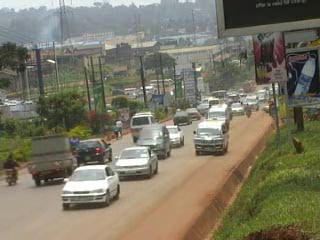Car: (60, 162, 120, 208), (113, 143, 159, 180), (135, 122, 172, 162), (74, 136, 113, 166), (164, 123, 185, 148), (170, 108, 193, 127), (195, 100, 211, 118), (228, 102, 246, 117), (184, 106, 200, 122)
Motorcycle: (3, 152, 23, 187), (244, 102, 252, 118)
